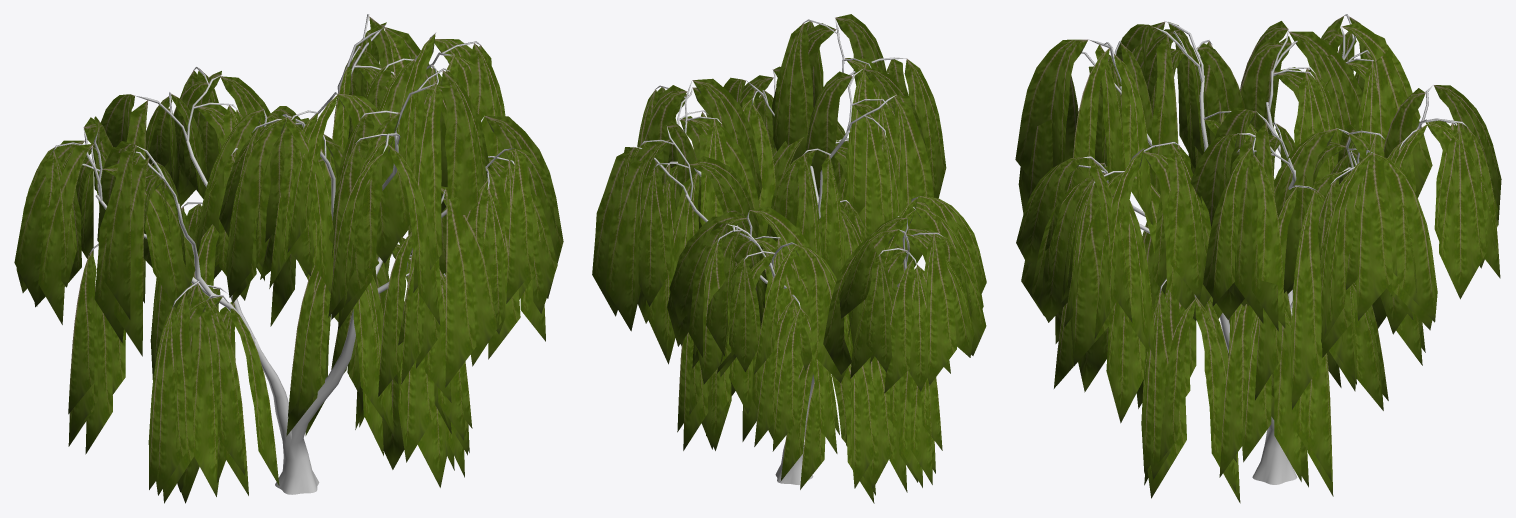
Rendered from WillowTree.fbx.
3 renders of one model, left to right at view 1: azimuth 30°, elevation 25°; view 2: azimuth 150°, elevation 25°; view 3: azimuth 270°, elevation 25°, orthographic. The views are drawn at different scales.
Parts seen in each view (by area): view 1: WillowTree; view 2: WillowTree; view 3: WillowTree.
Boxes of the visible parts, x1,y1,x2,y2 form: WillowTree: [14, 14, 563, 503]; WillowTree: [592, 14, 986, 503]; WillowTree: [1015, 14, 1501, 503].
Bounding box in the file's own units: 3632 × 3580 × 3435.
